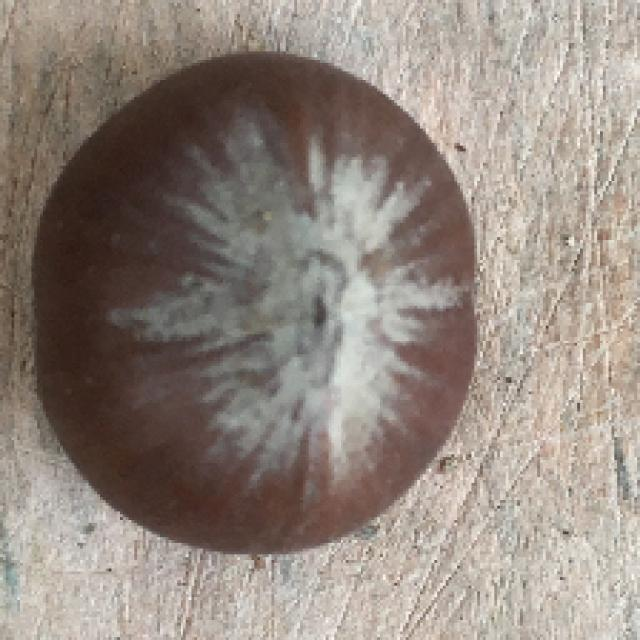qualityHazelnut: (31, 49, 480, 555)
